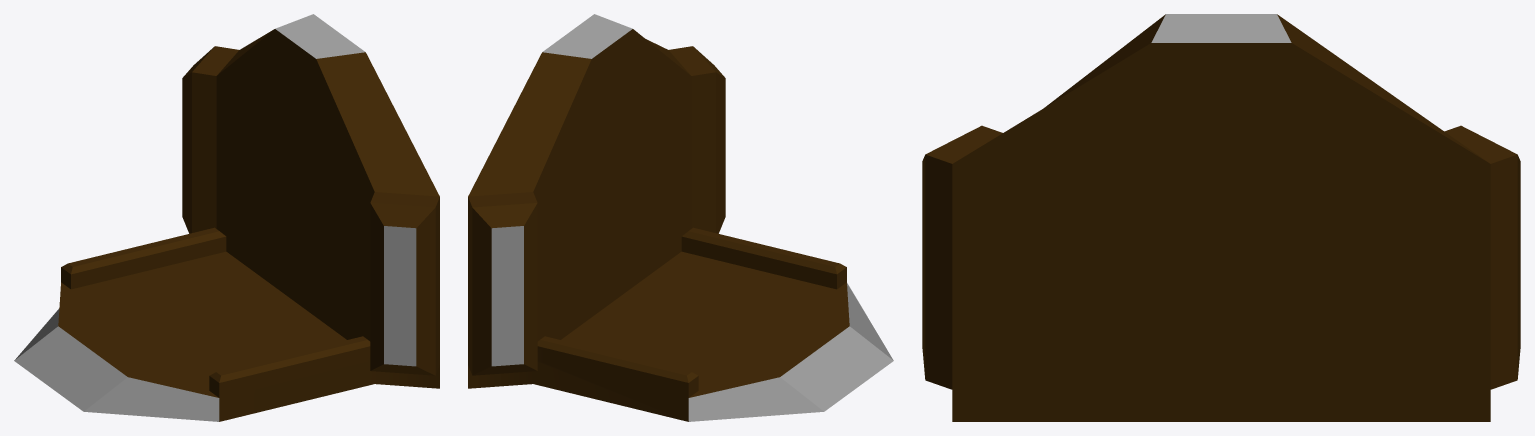
File: PressurePlate.fbx
3 views of the same model, side by side, from view 1: azimuth 30°, elevation 25°; view 2: azimuth 150°, elevation 25°; view 3: azimuth 270°, elevation 25° (orthographic). The views are drawn at different scales.
Visible parts, largest first — view 1: pCube1; view 2: pCube1; view 3: pCube1.
Boxes of the visible parts, x1=… form: pCube1: x1=14, y1=14, x2=439, y2=421; pCube1: x1=468, y1=14, x2=893, y2=421; pCube1: x1=922, y1=14, x2=1520, y2=421.
Bounding box in the file's own units: 3.18 × 2.95 × 4.22.
